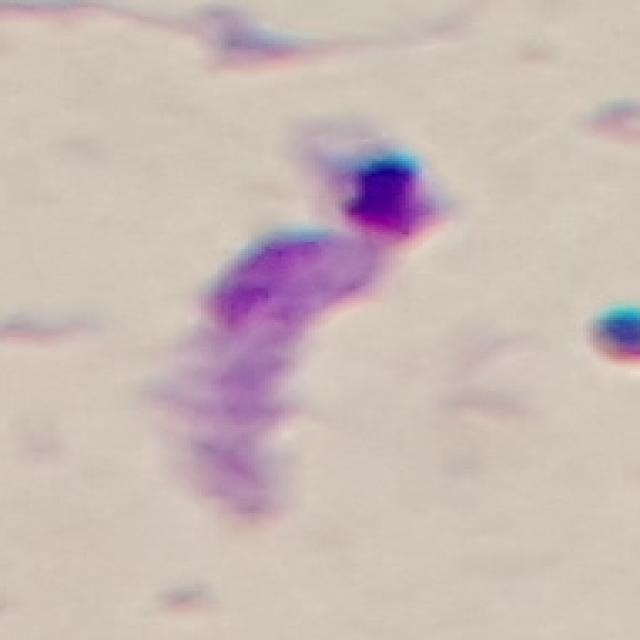non-sperm: (174, 149, 430, 521)
